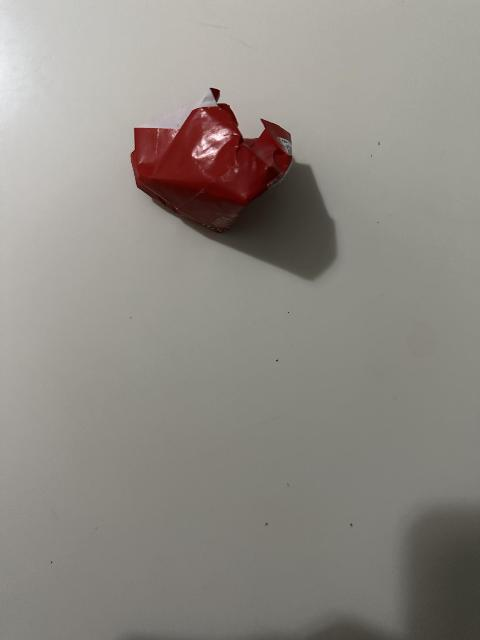Plastik: (130, 87, 297, 232)
